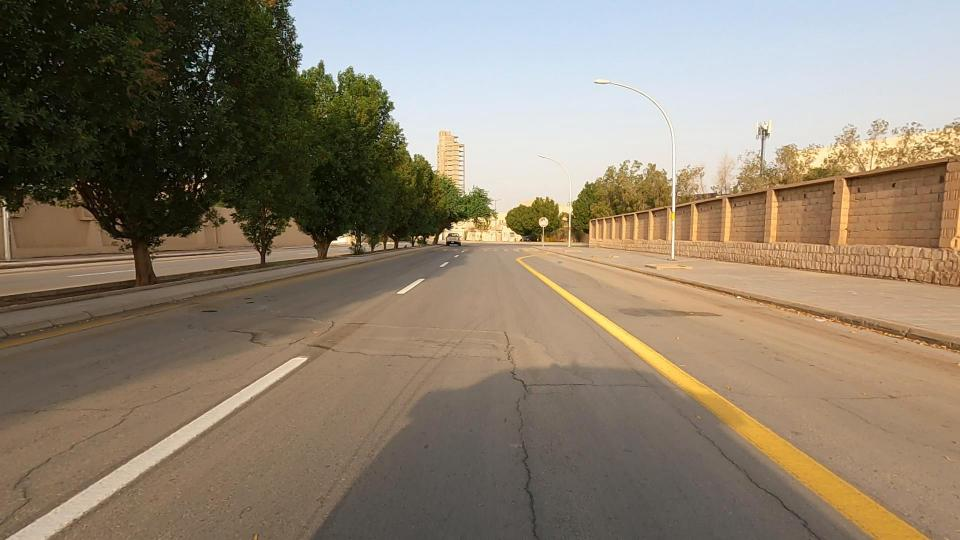POTHOLES: (373, 240, 631, 480), (192, 291, 403, 387)
